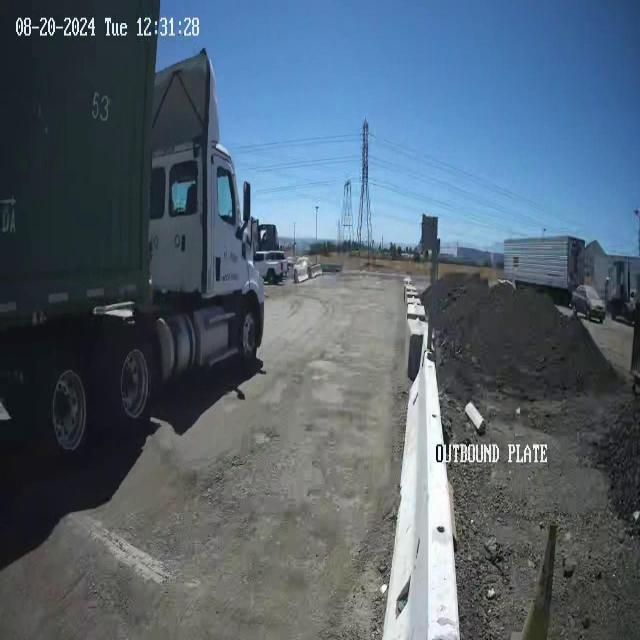TRUCK_CONTAINER: (1, 2, 265, 464)
